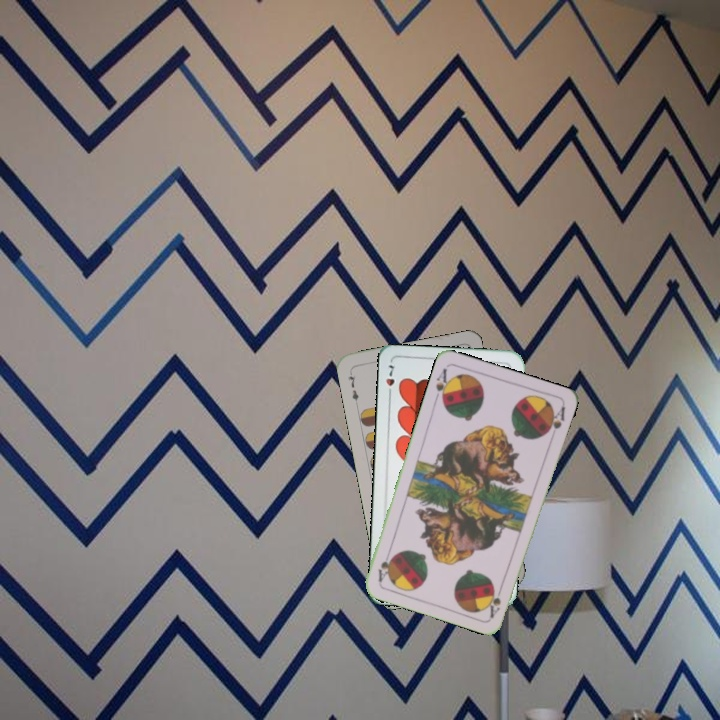E7: (344, 367, 361, 408)
H7: (382, 361, 397, 400)
SA: (431, 364, 454, 405), (486, 580, 505, 620)
